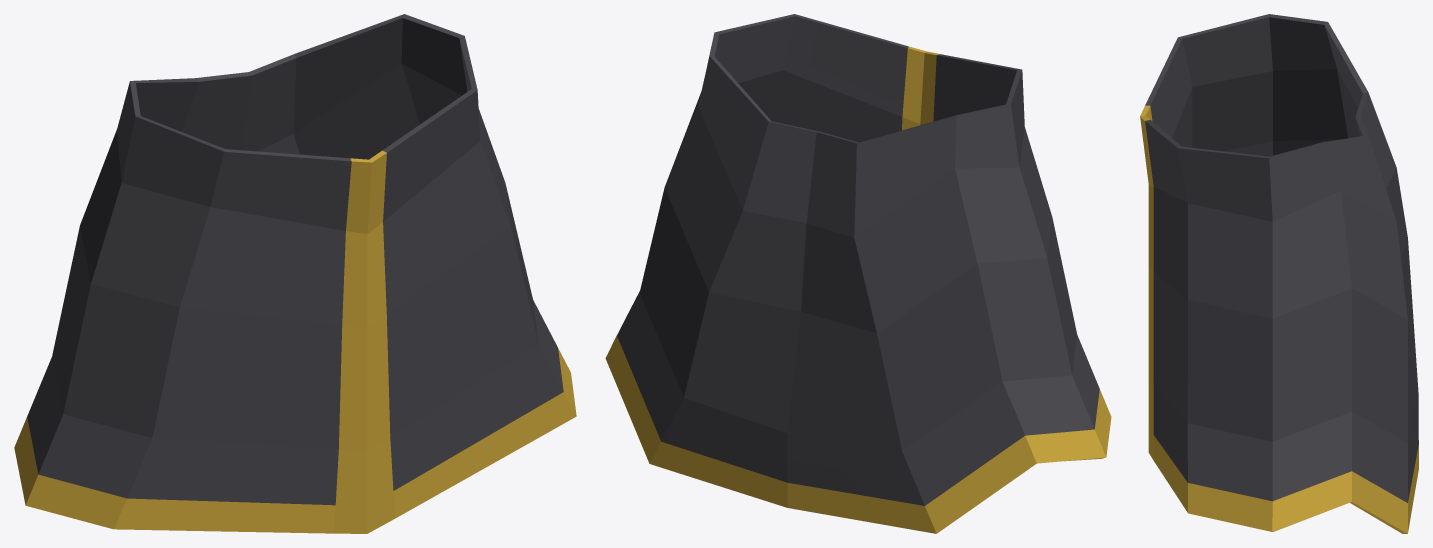
The model's file is PantalonesBarbaro.fbx.
The picture shows the model from 3 angles, left to right: view 1: azimuth 30°, elevation 25°; view 2: azimuth 150°, elevation 25°; view 3: azimuth 270°, elevation 25°; orthographic projection. The views are drawn at different scales.
Visible parts, largest first — view 1: M Slave; view 2: M Slave; view 3: M Slave.
Boxes of the visible parts, left/top/right/bottom form: M Slave: left=14, top=14, right=576, bottom=533; M Slave: left=605, top=14, right=1111, bottom=533; M Slave: left=1140, top=14, right=1418, bottom=533.
Bounding box in the file's own units: 100 × 75.93 × 49.56.
Materials: 1 (1 with a texture image).
